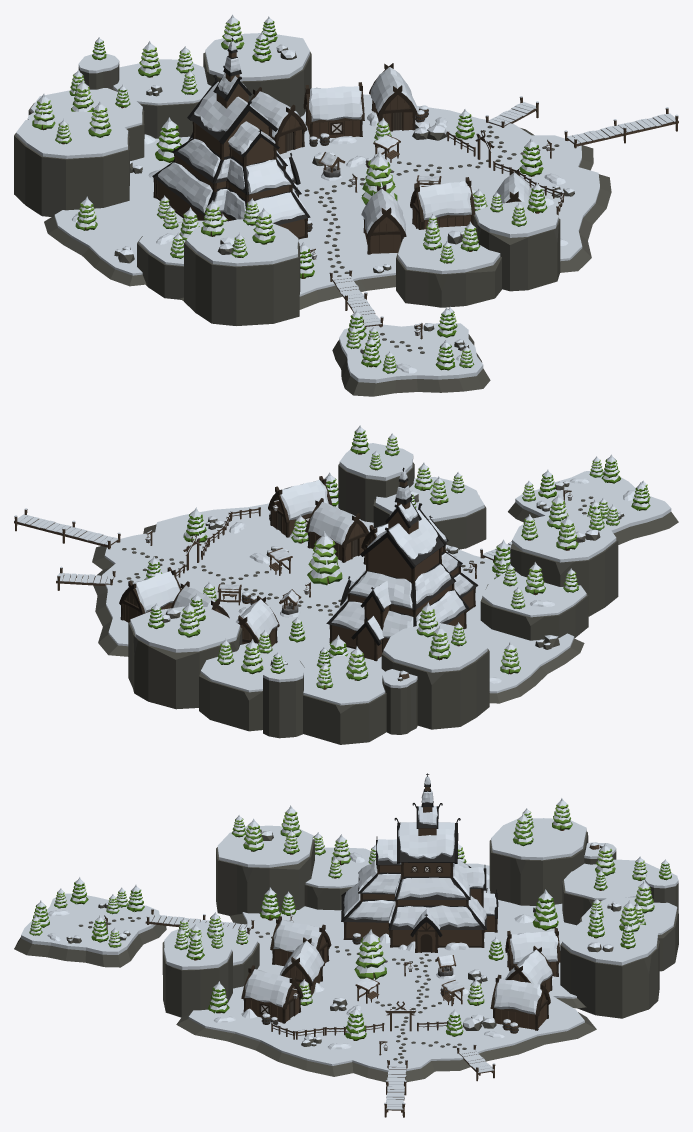
File: Winter_Village.fbx
The picture shows the model from 3 angles, top to bottom: view 1: azimuth 30°, elevation 25°; view 2: azimuth 150°, elevation 25°; view 3: azimuth 270°, elevation 25°; orthographic projection. The views are drawn at different scales.
Visible parts, largest first — view 1: Katto7.015, Vert.088, Vert.069, Plane.731, Plane.558, Plane.734, Vert.086, Vert.082, Plane.618, Plane.588, Plane.737, Vert.076 (+25 smaller); view 2: Katto7.015, Vert.069, Vert.076, Plane.588, Vert.088, Vert.073, Vert.090, Plane.734, Plane.558, Vert.074, Plane.618, Plane.731 (+23 smaller); view 3: Katto7.015, Vert.076, Plane.734, Plane.588, Vert.088, Plane.731, Vert.069, Plane.558, Plane.737, Vert.082, Plane.732, Vert.073 (+17 smaller).
Boxes of the visible parts, x1,y1,x2,y2 form: Katto7.015: (152, 37, 310, 239); Vert.088: (184, 219, 300, 325); Vert.069: (14, 111, 129, 216); Plane.731: (119, 146, 418, 309); Plane.558: (332, 323, 490, 396); Plane.734: (391, 160, 611, 272); Vert.086: (396, 226, 501, 307); Vert.082: (473, 201, 560, 291); Plane.618: (44, 191, 182, 286); Plane.588: (379, 130, 593, 213); Plane.737: (280, 94, 534, 194); Vert.076: (203, 33, 311, 116); Katto7.015: (326, 467, 478, 661); Vert.069: (381, 622, 489, 729); Vert.076: (128, 606, 242, 709); Plane.588: (92, 515, 290, 596); Vert.088: (510, 512, 618, 616); Vert.073: (302, 655, 386, 744); Vert.090: (480, 571, 588, 640); Plane.734: (143, 503, 373, 593); Plane.558: (508, 470, 678, 544); Vert.074: (199, 643, 304, 731); Plane.618: (464, 608, 584, 703); Plane.731: (256, 526, 502, 668); Katto7.015: (341, 773, 498, 952); Vert.076: (560, 917, 659, 1018); Plane.734: (176, 987, 435, 1076); Plane.588: (262, 1001, 492, 1082); Vert.088: (216, 825, 314, 915); Plane.731: (230, 885, 499, 999); Vert.069: (489, 818, 588, 905); Plane.558: (14, 893, 166, 967); Plane.737: (358, 958, 596, 1071); Vert.082: (163, 937, 232, 1017); Plane.732: (417, 916, 586, 1008); Vert.073: (562, 859, 659, 925).
Size of the model in its own units: 6540 by 2019 by 7278.
Materials: 11 (1 with a texture image).
